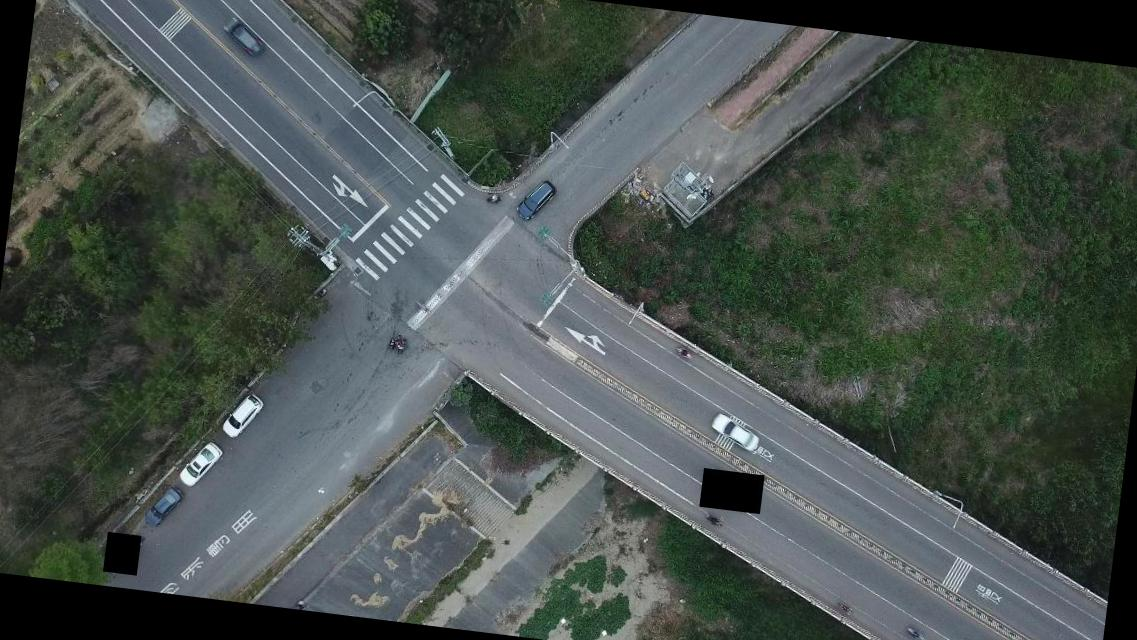vehicle: (706, 410, 762, 453), (218, 390, 264, 440), (511, 175, 558, 222), (178, 438, 222, 488), (220, 14, 264, 56), (144, 482, 182, 528)
